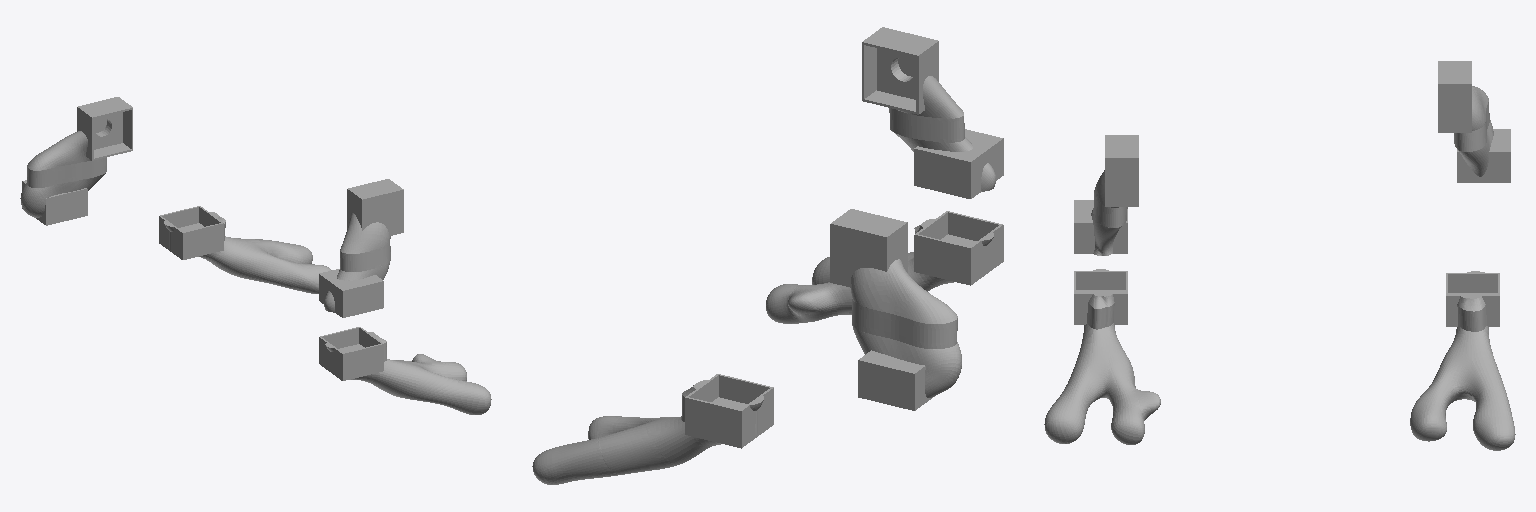
robot.urdf — FrogBot3_top-FrogBot3-y-4_bottom-FrogBot3-y-4:
<?xml version="1.0" ?>
<robot name="FrogBot3_top-FrogBot3-y-4_bottom-FrogBot3-y-4">

<material name="pla_5_percent_infill">
  <color rgba="0.700 0.700 0.700 1.000"/>
</material>

<link name="base_link">
  <inertial>
    <origin xyz="0 0 0" rpy="0 0 0"/>
    <mass value="1.5419899792307459"/>
    <inertia ixx="0.0054836076661745285" iyy="0.013703915460827342" izz="0.013742849788882953" ixy="5.961000823851627e-05" iyz="4.9944941207841843e-05" ixz="-0.0023657822822012154"/>
  </inertial>
  <visual>
    <origin xyz="0 0 0" rpy="0 0 0"/>
    <geometry>
      <mesh filename="simple_meshes/base_link.stl" scale="0.001 0.001 0.001"/>
    </geometry>
    <material name="pla_5_percent_infill"/>
  </visual>
  <collision>
    <origin xyz="0 0 0" rpy="0 0 0"/>
    <geometry>
      <mesh filename="simple_meshes/base_link.stl" scale="0.001 0.001 0.001"/>
    </geometry>
  </collision>
</link>

<link name="body_1_0_1">
  <inertial>
    <origin xyz="-0.065859 -0.113451 -0.001976" rpy="0 0 0"/>
    <mass value="0.04523021254123009"/>
    <inertia ixx="3.9696458151552375e-05" iyy="5.579205294275303e-05" izz="2.732350911470124e-05" ixy="3.3726491315899188e-06" iyz="4.073691839222006e-06" ixz="-1.5722319123818282e-05"/>
  </inertial>
  <visual>
    <origin xyz="-0.065859 -0.113451 -0.001976" rpy="0 0 0"/>
    <geometry>
      <mesh filename="simple_meshes/body_1_0_1.stl" scale="0.001 0.001 0.001"/>
    </geometry>
    <material name="pla_5_percent_infill"/>
  </visual>
  <collision>
    <origin xyz="-0.065859 -0.113451 -0.001976" rpy="0 0 0"/>
    <geometry>
      <mesh filename="simple_meshes/body_1_0_1.stl" scale="0.001 0.001 0.001"/>
    </geometry>
  </collision>
</link>

<link name="body_1_1_1">
  <inertial>
    <origin xyz="0.083929 -0.113451 -0.010696" rpy="0 0 0"/>
    <mass value="0.06880135852072712"/>
    <inertia ixx="5.903294688255011e-05" iyy="9.920510761012025e-05" izz="5.809906075330499e-05" ixy="6.571233818870436e-06" iyz="1.0348457800982863e-05" ixz="-2.6935314584204374e-05"/>
  </inertial>
  <visual>
    <origin xyz="0.083929 -0.113451 -0.010696" rpy="0 0 0"/>
    <geometry>
      <mesh filename="simple_meshes/body_1_1_1.stl" scale="0.001 0.001 0.001"/>
    </geometry>
    <material name="pla_5_percent_infill"/>
  </visual>
  <collision>
    <origin xyz="0.083929 -0.113451 -0.010696" rpy="0 0 0"/>
    <geometry>
      <mesh filename="simple_meshes/body_1_1_1.stl" scale="0.001 0.001 0.001"/>
    </geometry>
  </collision>
</link>

<link name="body_1_2_1">
  <inertial>
    <origin xyz="-0.060736 0.113451 -0.005366" rpy="0 0 0"/>
    <mass value="0.047283513782958454"/>
    <inertia ixx="4.389693884759025e-05" iyy="5.894789943221274e-05" izz="2.7223097277075115e-05" ixy="-3.5575507381732803e-06" iyz="-5.881686172434092e-06" ixz="-1.65168600868911e-05"/>
  </inertial>
  <visual>
    <origin xyz="-0.060736 0.113451 -0.005366" rpy="0 0 0"/>
    <geometry>
      <mesh filename="simple_meshes/body_1_2_1.stl" scale="0.001 0.001 0.001"/>
    </geometry>
    <material name="pla_5_percent_infill"/>
  </visual>
  <collision>
    <origin xyz="-0.060736 0.113451 -0.005366" rpy="0 0 0"/>
    <geometry>
      <mesh filename="simple_meshes/body_1_2_1.stl" scale="0.001 0.001 0.001"/>
    </geometry>
  </collision>
</link>

<link name="body_1_3_1">
  <inertial>
    <origin xyz="0.093982 0.113451 -0.005431" rpy="0 0 0"/>
    <mass value="0.06990327652718731"/>
    <inertia ixx="5.4338542721558145e-05" iyy="8.657500704453204e-05" izz="5.165373225145351e-05" ixy="-4.827868016864766e-06" iyz="-9.13482158717996e-06" ixz="-1.9810365161136993e-05"/>
  </inertial>
  <visual>
    <origin xyz="0.093982 0.113451 -0.005431" rpy="0 0 0"/>
    <geometry>
      <mesh filename="simple_meshes/body_1_3_1.stl" scale="0.001 0.001 0.001"/>
    </geometry>
    <material name="pla_5_percent_infill"/>
  </visual>
  <collision>
    <origin xyz="0.093982 0.113451 -0.005431" rpy="0 0 0"/>
    <geometry>
      <mesh filename="simple_meshes/body_1_3_1.stl" scale="0.001 0.001 0.001"/>
    </geometry>
  </collision>
</link>

<link name="body_2_0_1">
  <inertial>
    <origin xyz="-0.026166 -0.164707 0.102895" rpy="0 0 0"/>
    <mass value="0.0847492745228644"/>
    <inertia ixx="7.740216099426985e-05" iyy="0.00020995541576546758" izz="0.00020498280341185986" ixy="4.875677627074566e-06" iyz="-3.8759552899859766e-06" ixz="7.400617048070068e-05"/>
  </inertial>
  <visual>
    <origin xyz="-0.026166 -0.164707 0.102895" rpy="0 0 0"/>
    <geometry>
      <mesh filename="simple_meshes/body_2_0_1.stl" scale="0.001 0.001 0.001"/>
    </geometry>
    <material name="pla_5_percent_infill"/>
  </visual>
  <collision>
    <origin xyz="-0.026166 -0.164707 0.102895" rpy="0 0 0"/>
    <geometry>
      <mesh filename="simple_meshes/body_2_0_1.stl" scale="0.001 0.001 0.001"/>
    </geometry>
  </collision>
</link>

<link name="body_2_1_1">
  <inertial>
    <origin xyz="0.127747 -0.174737 0.102895" rpy="0 0 0"/>
    <mass value="0.07417124681819136"/>
    <inertia ixx="5.710917324846902e-05" iyy="0.00010570460246660165" izz="0.00010165059168990671" ixy="-9.388975548049825e-06" iyz="3.58451696163848e-06" ixz="3.8595480920323305e-05"/>
  </inertial>
  <visual>
    <origin xyz="0.127747 -0.174737 0.102895" rpy="0 0 0"/>
    <geometry>
      <mesh filename="simple_meshes/body_2_1_1.stl" scale="0.001 0.001 0.001"/>
    </geometry>
    <material name="pla_5_percent_infill"/>
  </visual>
  <collision>
    <origin xyz="0.127747 -0.174737 0.102895" rpy="0 0 0"/>
    <geometry>
      <mesh filename="simple_meshes/body_2_1_1.stl" scale="0.001 0.001 0.001"/>
    </geometry>
  </collision>
</link>

<link name="body_2_2_1">
  <inertial>
    <origin xyz="-0.021708 0.167525 0.102895" rpy="0 0 0"/>
    <mass value="0.0850620697412849"/>
    <inertia ixx="7.686213732371536e-05" iyy="0.00020830545349865117" izz="0.0002031925820917082" ixy="1.6062206704726967e-06" iyz="-1.1335614564663386e-06" ixz="7.31691742605449e-05"/>
  </inertial>
  <visual>
    <origin xyz="-0.021708 0.167525 0.102895" rpy="0 0 0"/>
    <geometry>
      <mesh filename="simple_meshes/body_2_2_1.stl" scale="0.001 0.001 0.001"/>
    </geometry>
    <material name="pla_5_percent_infill"/>
  </visual>
  <collision>
    <origin xyz="-0.021708 0.167525 0.102895" rpy="0 0 0"/>
    <geometry>
      <mesh filename="simple_meshes/body_2_2_1.stl" scale="0.001 0.001 0.001"/>
    </geometry>
  </collision>
</link>

<link name="body_2_3_1">
  <inertial>
    <origin xyz="0.128136 0.172985 0.102895" rpy="0 0 0"/>
    <mass value="0.0715746486443258"/>
    <inertia ixx="5.9022775953296996e-05" iyy="9.928317724688853e-05" izz="0.00010004935171188927" ixy="7.567039896411252e-06" iyz="-4.6331607226716975e-06" ixz="3.548011629787807e-05"/>
  </inertial>
  <visual>
    <origin xyz="0.128136 0.172985 0.102895" rpy="0 0 0"/>
    <geometry>
      <mesh filename="simple_meshes/body_2_3_1.stl" scale="0.001 0.001 0.001"/>
    </geometry>
    <material name="pla_5_percent_infill"/>
  </visual>
  <collision>
    <origin xyz="0.128136 0.172985 0.102895" rpy="0 0 0"/>
    <geometry>
      <mesh filename="simple_meshes/body_2_3_1.stl" scale="0.001 0.001 0.001"/>
    </geometry>
  </collision>
</link>

<joint name="joint_1_0" type="revolute">
  <origin xyz="0.065859 0.113451 0.001976" rpy="0 0 0"/>
  <parent link="base_link"/>
  <child link="body_1_0_1"/>
  <axis xyz="0.0 0.0 -1.0"/>
  <limit upper="1.2" lower="-1.2" effort="3.8" velocity="5.4"/>
</joint>
<transmission name="joint_1_0_tran">
  <type>transmission_interface/SimpleTransmission</type>
  <joint name="joint_1_0">
    <hardwareInterface>PositionJointInterface</hardwareInterface>
  </joint>
  <actuator name="joint_1_0_actr">
    <hardwareInterface>PositionJointInterface</hardwareInterface>
    <mechanicalReduction>1</mechanicalReduction>
  </actuator>
</transmission>

<joint name="joint_1_1" type="revolute">
  <origin xyz="-0.083929 0.113451 0.010696" rpy="0 0 0"/>
  <parent link="base_link"/>
  <child link="body_1_1_1"/>
  <axis xyz="0.0 0.0 -1.0"/>
  <limit upper="1.2" lower="-1.2" effort="3.8" velocity="5.4"/>
</joint>
<transmission name="joint_1_1_tran">
  <type>transmission_interface/SimpleTransmission</type>
  <joint name="joint_1_1">
    <hardwareInterface>PositionJointInterface</hardwareInterface>
  </joint>
  <actuator name="joint_1_1_actr">
    <hardwareInterface>PositionJointInterface</hardwareInterface>
    <mechanicalReduction>1</mechanicalReduction>
  </actuator>
</transmission>

<joint name="joint_1_2" type="revolute">
  <origin xyz="0.060736 -0.113451 0.005366" rpy="0 0 0"/>
  <parent link="base_link"/>
  <child link="body_1_2_1"/>
  <axis xyz="0.0 0.0 -1.0"/>
  <limit upper="1.2" lower="-1.2" effort="3.8" velocity="5.4"/>
</joint>
<transmission name="joint_1_2_tran">
  <type>transmission_interface/SimpleTransmission</type>
  <joint name="joint_1_2">
    <hardwareInterface>PositionJointInterface</hardwareInterface>
  </joint>
  <actuator name="joint_1_2_actr">
    <hardwareInterface>PositionJointInterface</hardwareInterface>
    <mechanicalReduction>1</mechanicalReduction>
  </actuator>
</transmission>

<joint name="joint_1_3" type="revolute">
  <origin xyz="-0.093982 -0.113451 0.005431" rpy="0 0 0"/>
  <parent link="base_link"/>
  <child link="body_1_3_1"/>
  <axis xyz="0.0 0.0 -1.0"/>
  <limit upper="1.2" lower="-1.2" effort="3.8" velocity="5.4"/>
</joint>
<transmission name="joint_1_3_tran">
  <type>transmission_interface/SimpleTransmission</type>
  <joint name="joint_1_3">
    <hardwareInterface>PositionJointInterface</hardwareInterface>
  </joint>
  <actuator name="joint_1_3_actr">
    <hardwareInterface>PositionJointInterface</hardwareInterface>
    <mechanicalReduction>1</mechanicalReduction>
  </actuator>
</transmission>

<joint name="joint_2_0" type="revolute">
  <origin xyz="-0.039693 0.051256 -0.104871" rpy="0 0 0"/>
  <parent link="body_1_0_1"/>
  <child link="body_2_0_1"/>
  <axis xyz="0.0 1.0 0.0"/>
  <limit upper="1.2" lower="-1.2" effort="3.8" velocity="5.4"/>
</joint>
<transmission name="joint_2_0_tran">
  <type>transmission_interface/SimpleTransmission</type>
  <joint name="joint_2_0">
    <hardwareInterface>PositionJointInterface</hardwareInterface>
  </joint>
  <actuator name="joint_2_0_actr">
    <hardwareInterface>PositionJointInterface</hardwareInterface>
    <mechanicalReduction>1</mechanicalReduction>
  </actuator>
</transmission>

<joint name="joint_2_1" type="revolute">
  <origin xyz="-0.043818 0.061286 -0.113591" rpy="0 0 0"/>
  <parent link="body_1_1_1"/>
  <child link="body_2_1_1"/>
  <axis xyz="0.0 1.0 0.0"/>
  <limit upper="1.2" lower="-1.2" effort="3.8" velocity="5.4"/>
</joint>
<transmission name="joint_2_1_tran">
  <type>transmission_interface/SimpleTransmission</type>
  <joint name="joint_2_1">
    <hardwareInterface>PositionJointInterface</hardwareInterface>
  </joint>
  <actuator name="joint_2_1_actr">
    <hardwareInterface>PositionJointInterface</hardwareInterface>
    <mechanicalReduction>1</mechanicalReduction>
  </actuator>
</transmission>

<joint name="joint_2_2" type="revolute">
  <origin xyz="-0.039028 -0.054074 -0.108261" rpy="0 0 0"/>
  <parent link="body_1_2_1"/>
  <child link="body_2_2_1"/>
  <axis xyz="0.0 1.0 0.0"/>
  <limit upper="1.2" lower="-1.2" effort="3.8" velocity="5.4"/>
</joint>
<transmission name="joint_2_2_tran">
  <type>transmission_interface/SimpleTransmission</type>
  <joint name="joint_2_2">
    <hardwareInterface>PositionJointInterface</hardwareInterface>
  </joint>
  <actuator name="joint_2_2_actr">
    <hardwareInterface>PositionJointInterface</hardwareInterface>
    <mechanicalReduction>1</mechanicalReduction>
  </actuator>
</transmission>

<joint name="joint_2_3" type="revolute">
  <origin xyz="-0.034154 -0.059534 -0.108326" rpy="0 0 0"/>
  <parent link="body_1_3_1"/>
  <child link="body_2_3_1"/>
  <axis xyz="0.0 1.0 0.0"/>
  <limit upper="1.2" lower="-1.2" effort="3.8" velocity="5.4"/>
</joint>
<transmission name="joint_2_3_tran">
  <type>transmission_interface/SimpleTransmission</type>
  <joint name="joint_2_3">
    <hardwareInterface>PositionJointInterface</hardwareInterface>
  </joint>
  <actuator name="joint_2_3_actr">
    <hardwareInterface>PositionJointInterface</hardwareInterface>
    <mechanicalReduction>1</mechanicalReduction>
  </actuator>
</transmission>

</robot>

--- Render facts (derived) ---
Views: 3 orthographic renders of the robot side by side, from view 1: azimuth 30°, elevation 25°; view 2: azimuth 150°, elevation 25°; view 3: azimuth 270°, elevation 25°.
Model FrogBot3_top-FrogBot3-y-4_bottom-FrogBot3-y-4 with 9 links and 8 joints (8 revolute), rooted at base_link, posed every joint at zero.
Visible links, largest first — view 1: body_1_1_1, body_1_2_1, body_2_2_1, body_2_0_1; view 2: body_1_1_1, body_1_2_1, body_2_0_1, body_2_2_1; view 3: body_2_2_1, body_2_0_1, body_1_1_1, body_1_2_1.
Boxes of the visible links, left/top/right/bottom form: body_1_1_1: left=20, top=97, right=132, bottom=225; body_1_2_1: left=319, top=179, right=403, bottom=317; body_2_2_1: left=319, top=327, right=491, bottom=414; body_2_0_1: left=159, top=206, right=331, bottom=293; body_1_1_1: left=830, top=209, right=961, bottom=410; body_1_2_1: left=862, top=27, right=1003, bottom=198; body_2_0_1: left=532, top=374, right=773, bottom=484; body_2_2_1: left=766, top=211, right=1003, bottom=323; body_2_2_1: left=1044, top=269, right=1160, bottom=444; body_2_0_1: left=1410, top=271, right=1515, bottom=450; body_1_1_1: left=1438, top=61, right=1510, bottom=182; body_1_2_1: left=1074, top=135, right=1138, bottom=255.
Size in the robot's own frame: 0.3509 by 0.4207 by 0.2562 metres.
4 mesh visuals loaded from 9 distinct referenced files (4 binary STL); not drawn: 5 (reference not matched to a file when rendering).